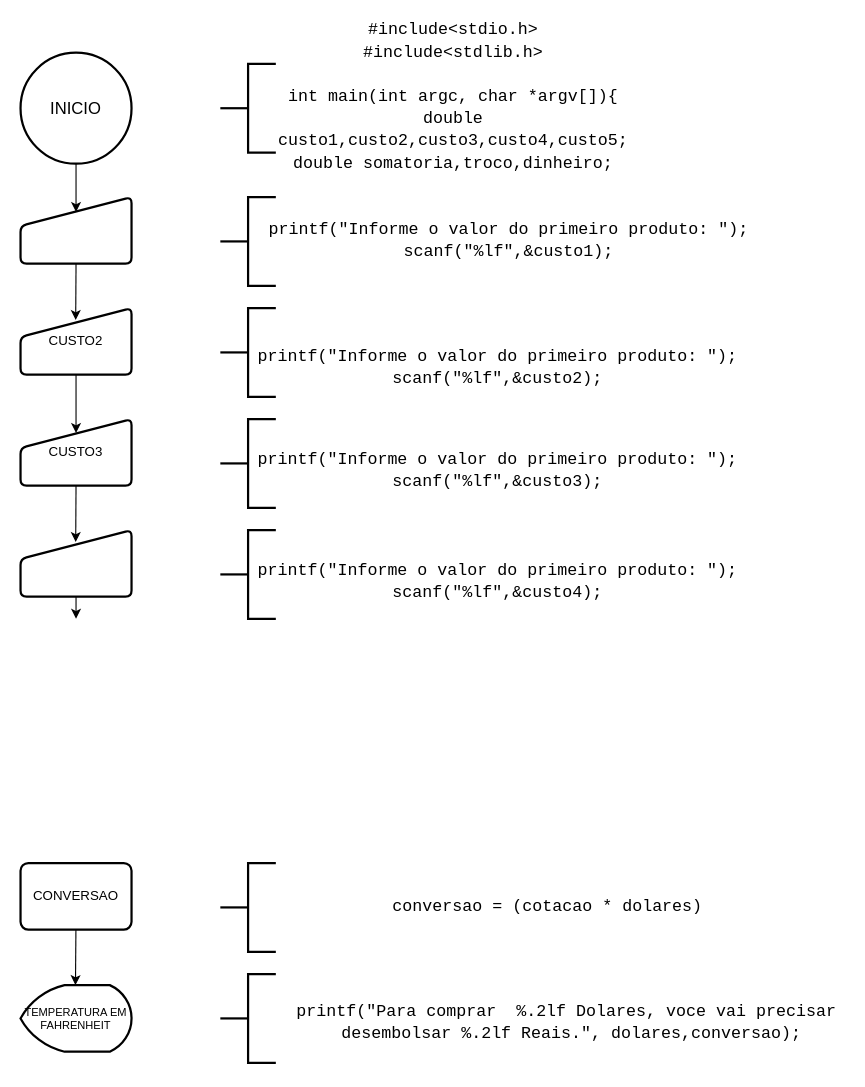
Image size: 865x1087. Some labels were removed from this diagram. The centre of each missing label's shape, as x and y in pixels:
"CUSTO1" belongs at pixel 75 229.
"CUSTO4" belongs at pixel 75 562.
